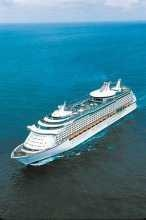youlun: (9, 80, 142, 170)
